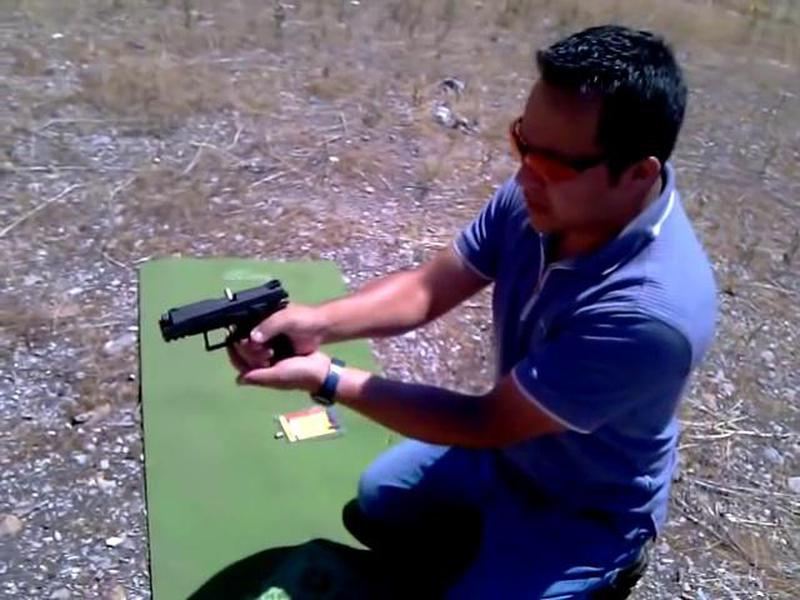Pistola: (154, 271, 309, 401)
